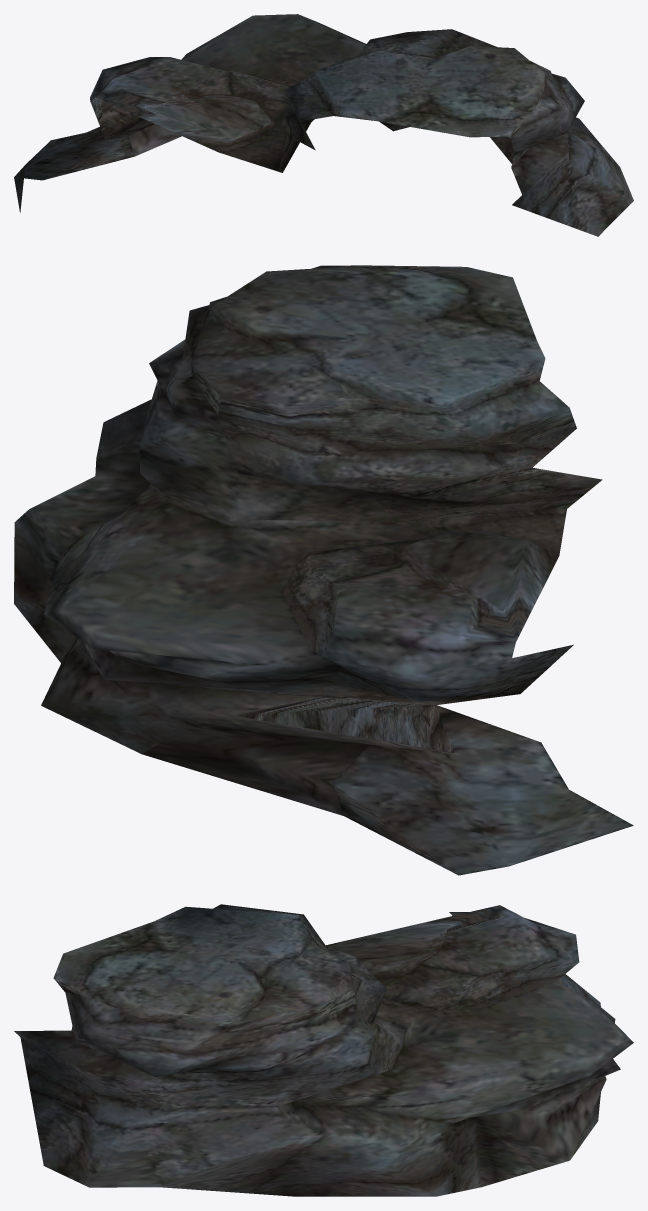
File: S_Rock_Yellow034_H22.FBX
3 views of the same model, one above another, from view 1: azimuth 30°, elevation 25°; view 2: azimuth 150°, elevation 25°; view 3: azimuth 270°, elevation 25° (orthographic). The views are drawn at different scales.
Visible parts, largest first — view 1: S_Rock_Yellow034_H22; view 2: S_Rock_Yellow034_H22; view 3: S_Rock_Yellow034_H22.
Boxes of the visible parts, bbox=[...] form: S_Rock_Yellow034_H22: bbox=[14, 14, 633, 236]; S_Rock_Yellow034_H22: bbox=[14, 265, 633, 875]; S_Rock_Yellow034_H22: bbox=[14, 904, 633, 1196].
Bounding box in the file's own units: 1450 × 1462 × 531.
1 material, 1 textured.
